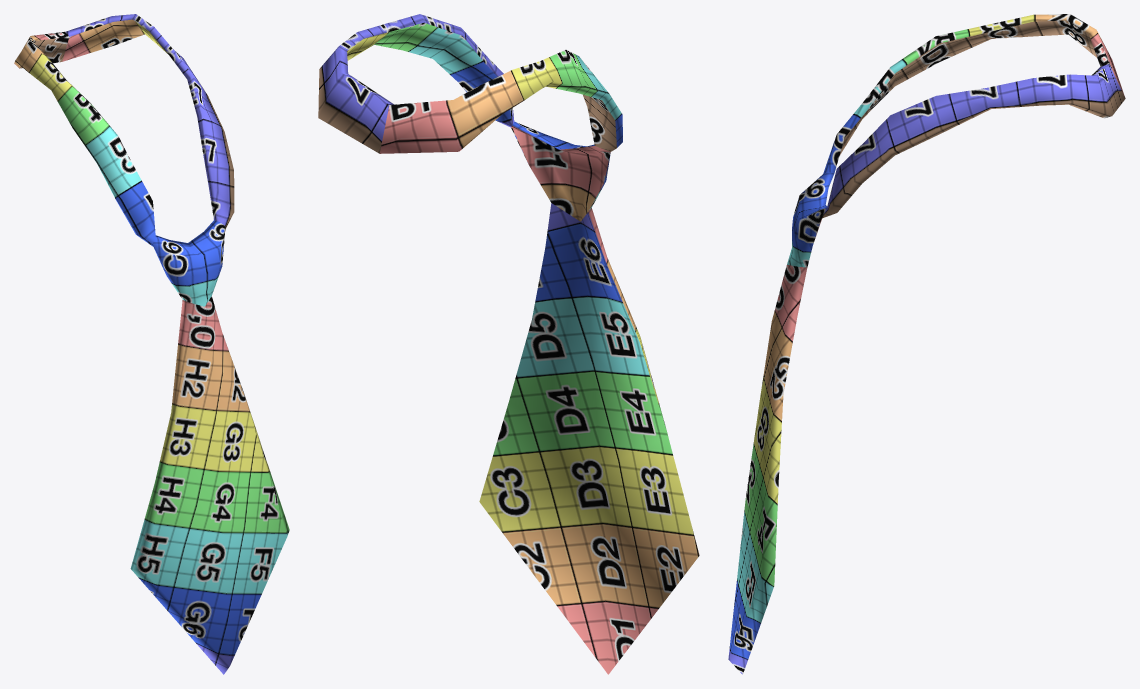
Rendered from krawatte.fbx.
The picture shows the model from 3 angles, left to right: view 1: azimuth 30°, elevation 25°; view 2: azimuth 150°, elevation 25°; view 3: azimuth 270°, elevation 25°; orthographic projection. The views are drawn at different scales.
Parts seen in each view (by area): view 1: Circle; view 2: Circle; view 3: Circle.
Boxes of the visible parts, <box> form: Circle: <box>14,14,289,674</box>; Circle: <box>318,14,699,674</box>; Circle: <box>728,14,1125,674</box>.
Size of the model in its own units: 8.53 by 27.9 by 15.92.
1 material, 1 textured.
